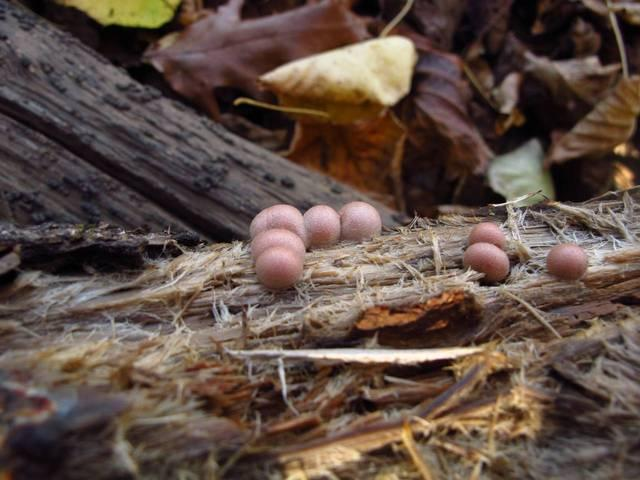Non-edible Mushroom: (247, 199, 382, 291), (250, 228, 305, 290), (248, 203, 306, 245), (461, 241, 510, 283), (338, 200, 381, 242), (302, 203, 341, 248), (545, 242, 588, 280), (467, 220, 507, 249)
